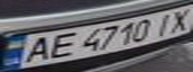0: (130, 16, 157, 43)
1: (118, 20, 139, 46)
4: (78, 26, 103, 54)
7: (96, 24, 121, 51)
A: (15, 34, 57, 65)
E: (42, 30, 81, 61)
I: (148, 11, 181, 38)
X: (163, 7, 193, 35)
